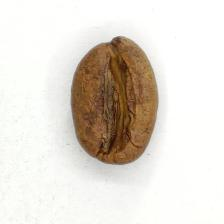NG: (91, 48, 140, 157)
